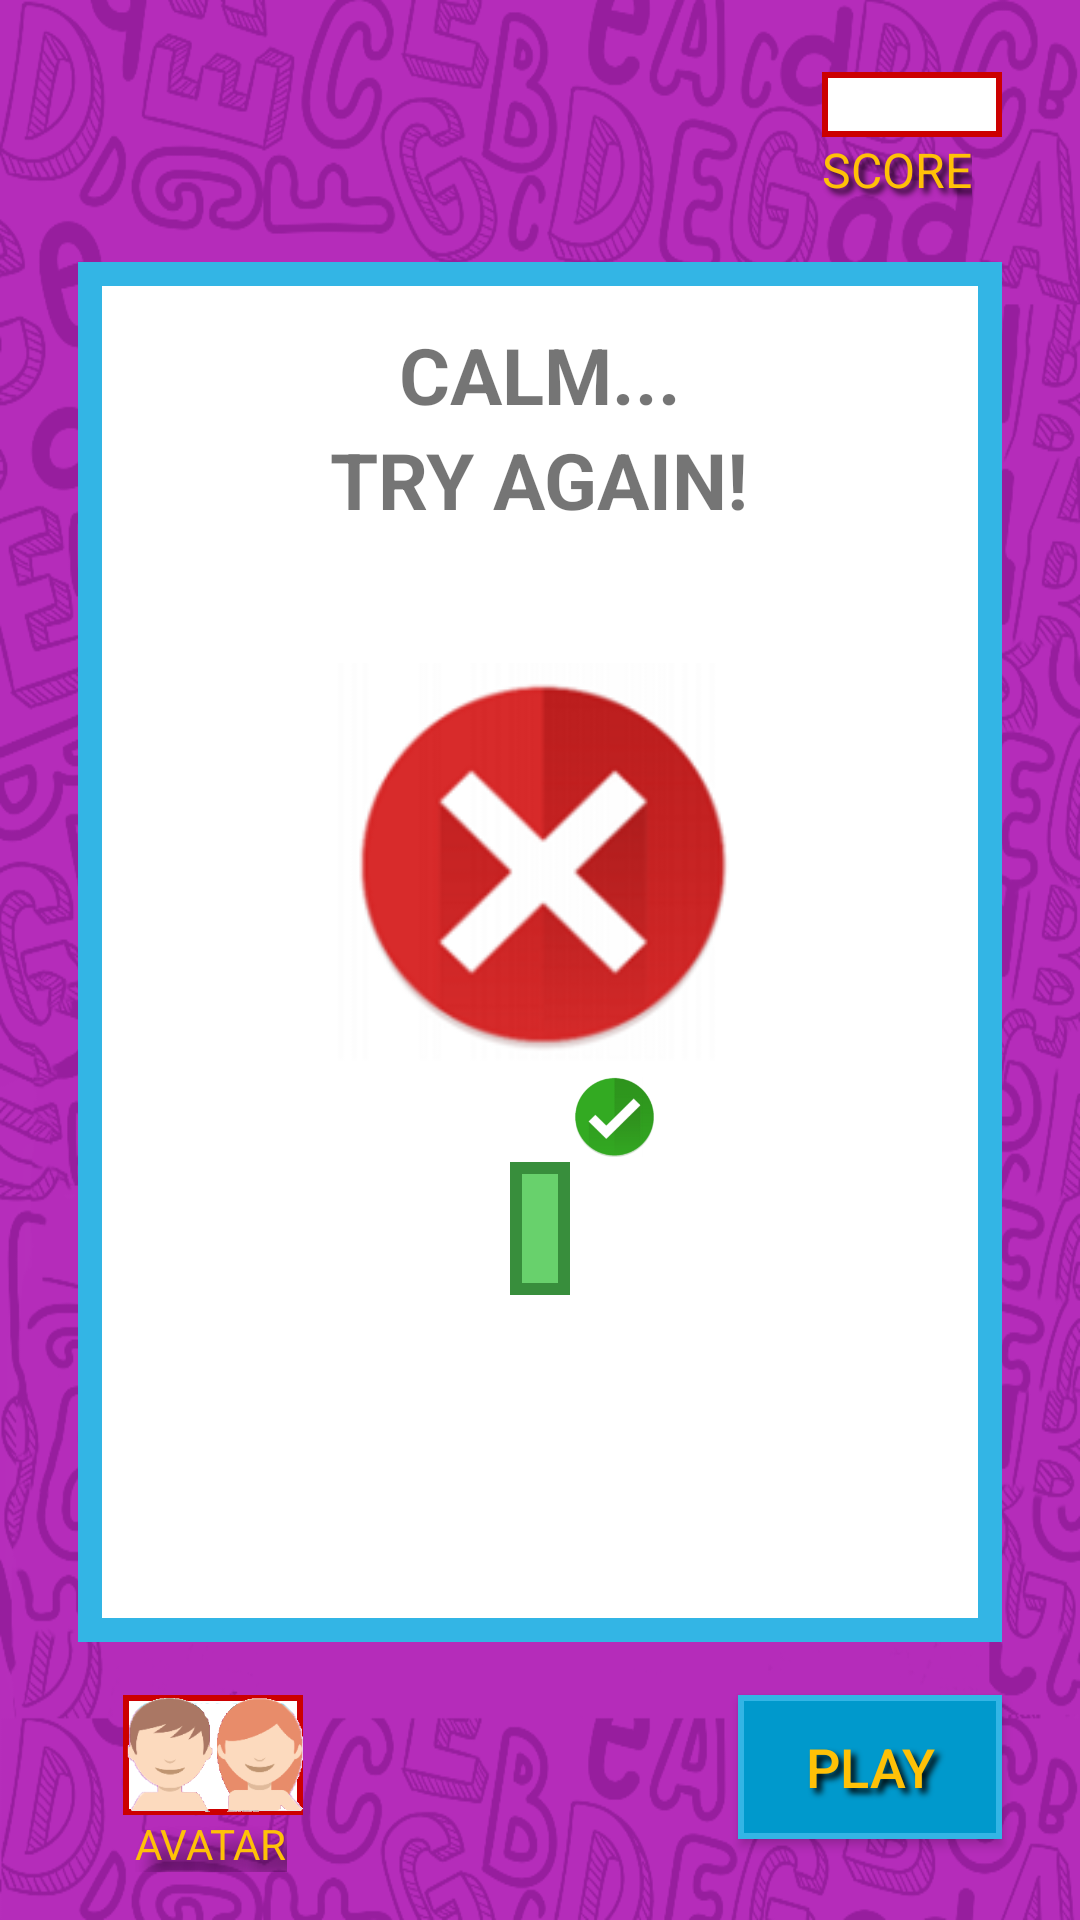

Named icons in this screenshot (1080*1920) and their bounding boxes, (x1, y1, x2, y2):
ok image: (575, 1078, 654, 1157)
